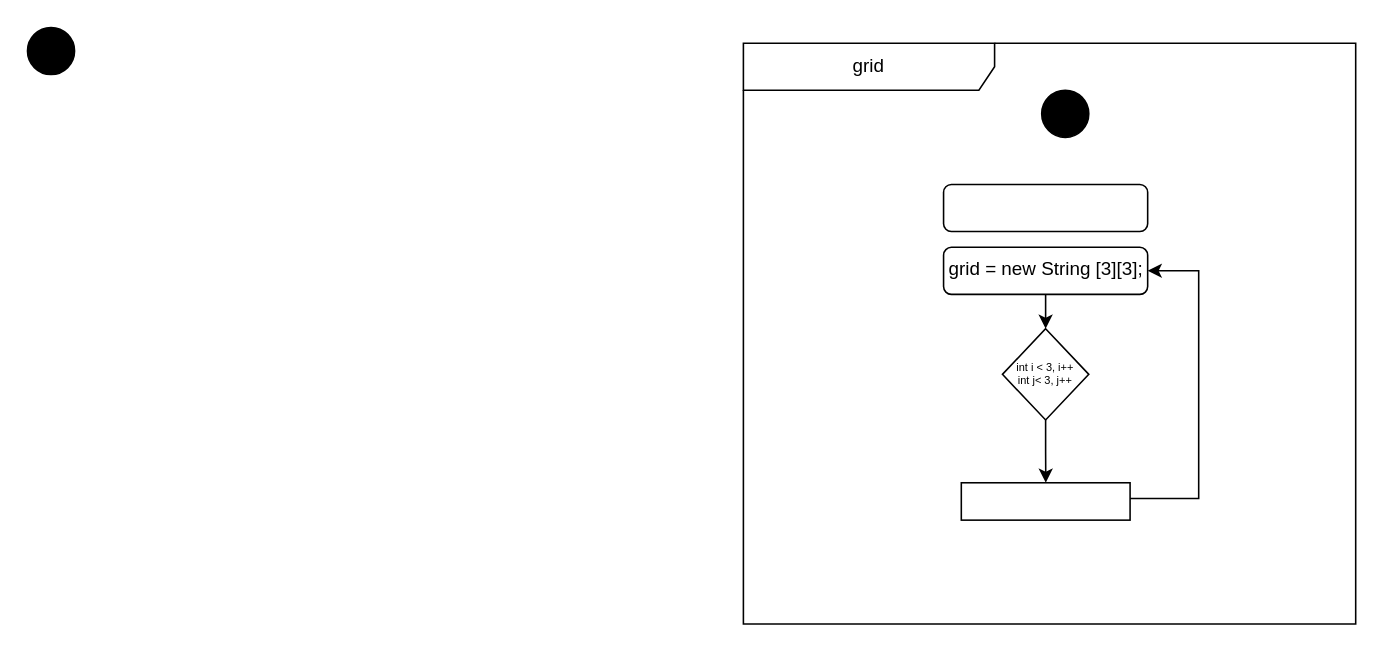
Image size: 1383x652. Some labels were removed from this diagram. Here are the shapes that lost their labels. From the top down, the box of each, then its label:
(942, 183, 1148, 232): String [][] grid;
(960, 481, 1130, 520): layout [i][j] = "..."
